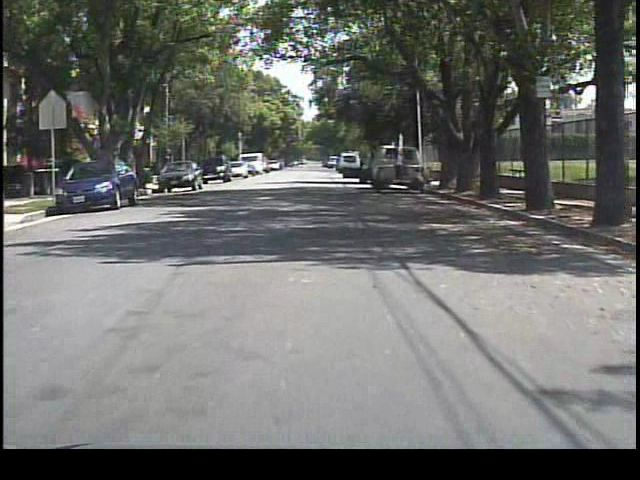person: (357, 159, 372, 187)
